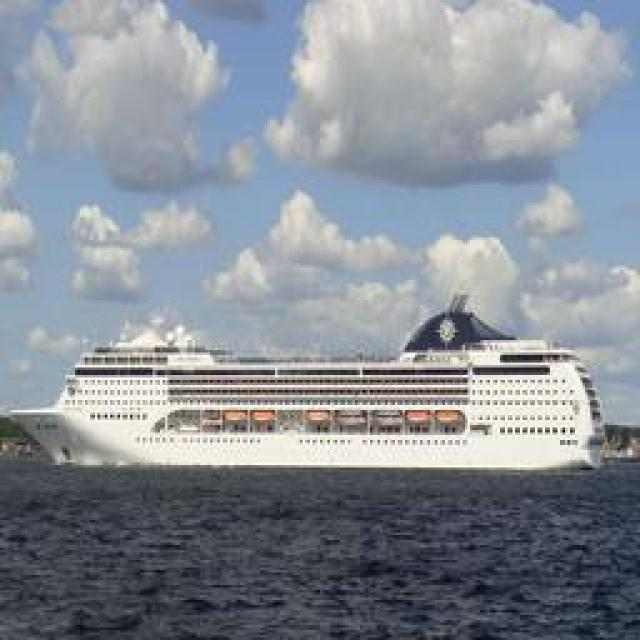ship2: (8, 294, 606, 471)
